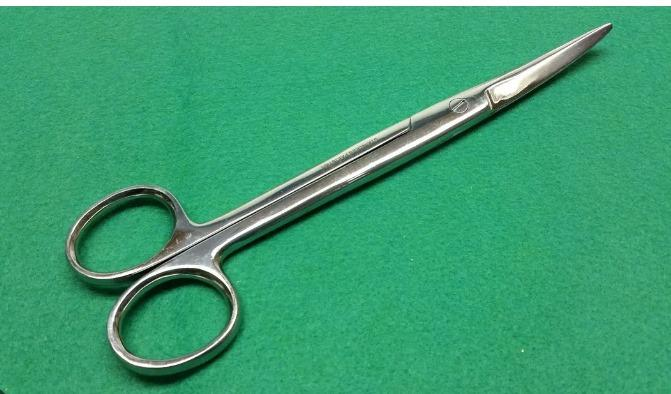Curved Mayo: (48, 16, 619, 384)
